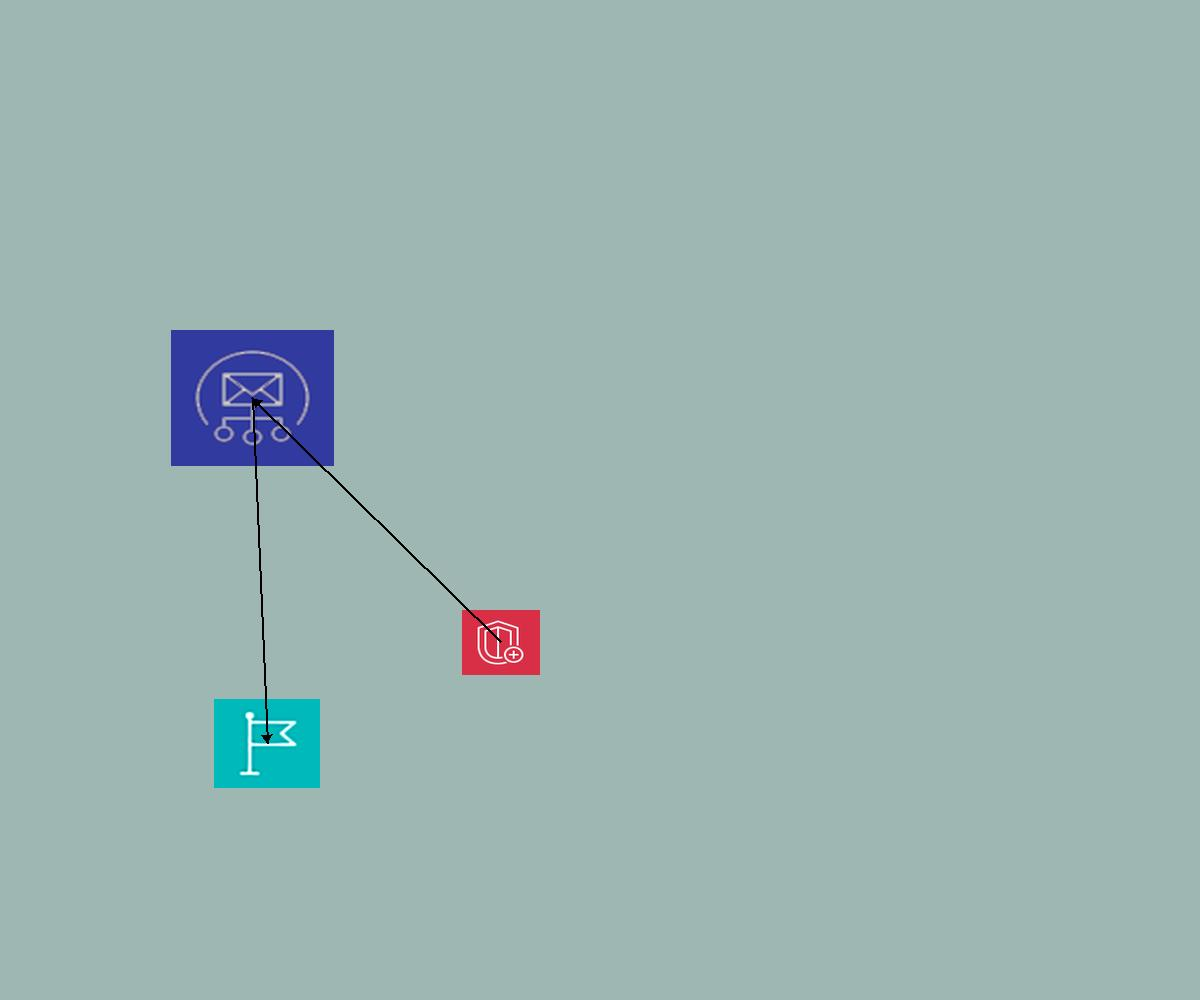AWS-Region: (214, 699, 320, 788)
AWS-Shield: (462, 610, 540, 675)
AWS-Simple-Email-Service: (171, 330, 334, 466)
